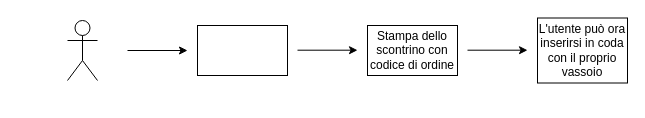
This 645x118 diagram has some shape labels left out. The centre of each missing label's shape, as x and y in pixels:
"Identificazione al rilevatore di presenza" belongs at (x=242, y=50).
"Utente con prenotazione" belongs at (x=82, y=50).
